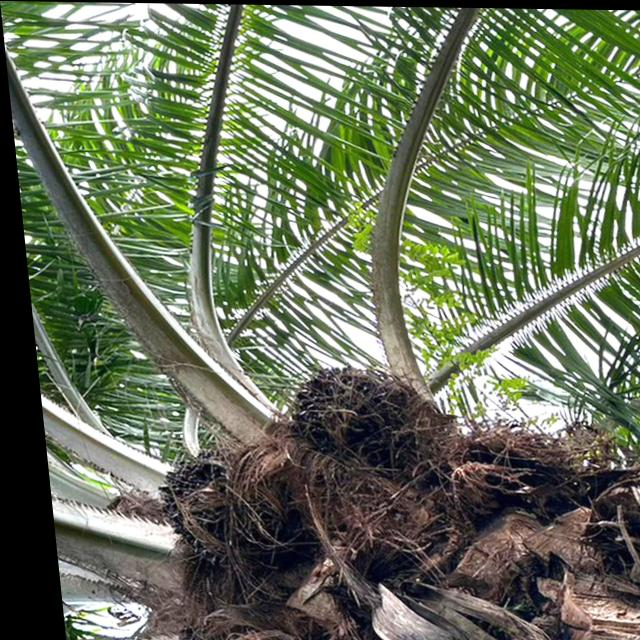almost: (266, 352, 415, 474)
